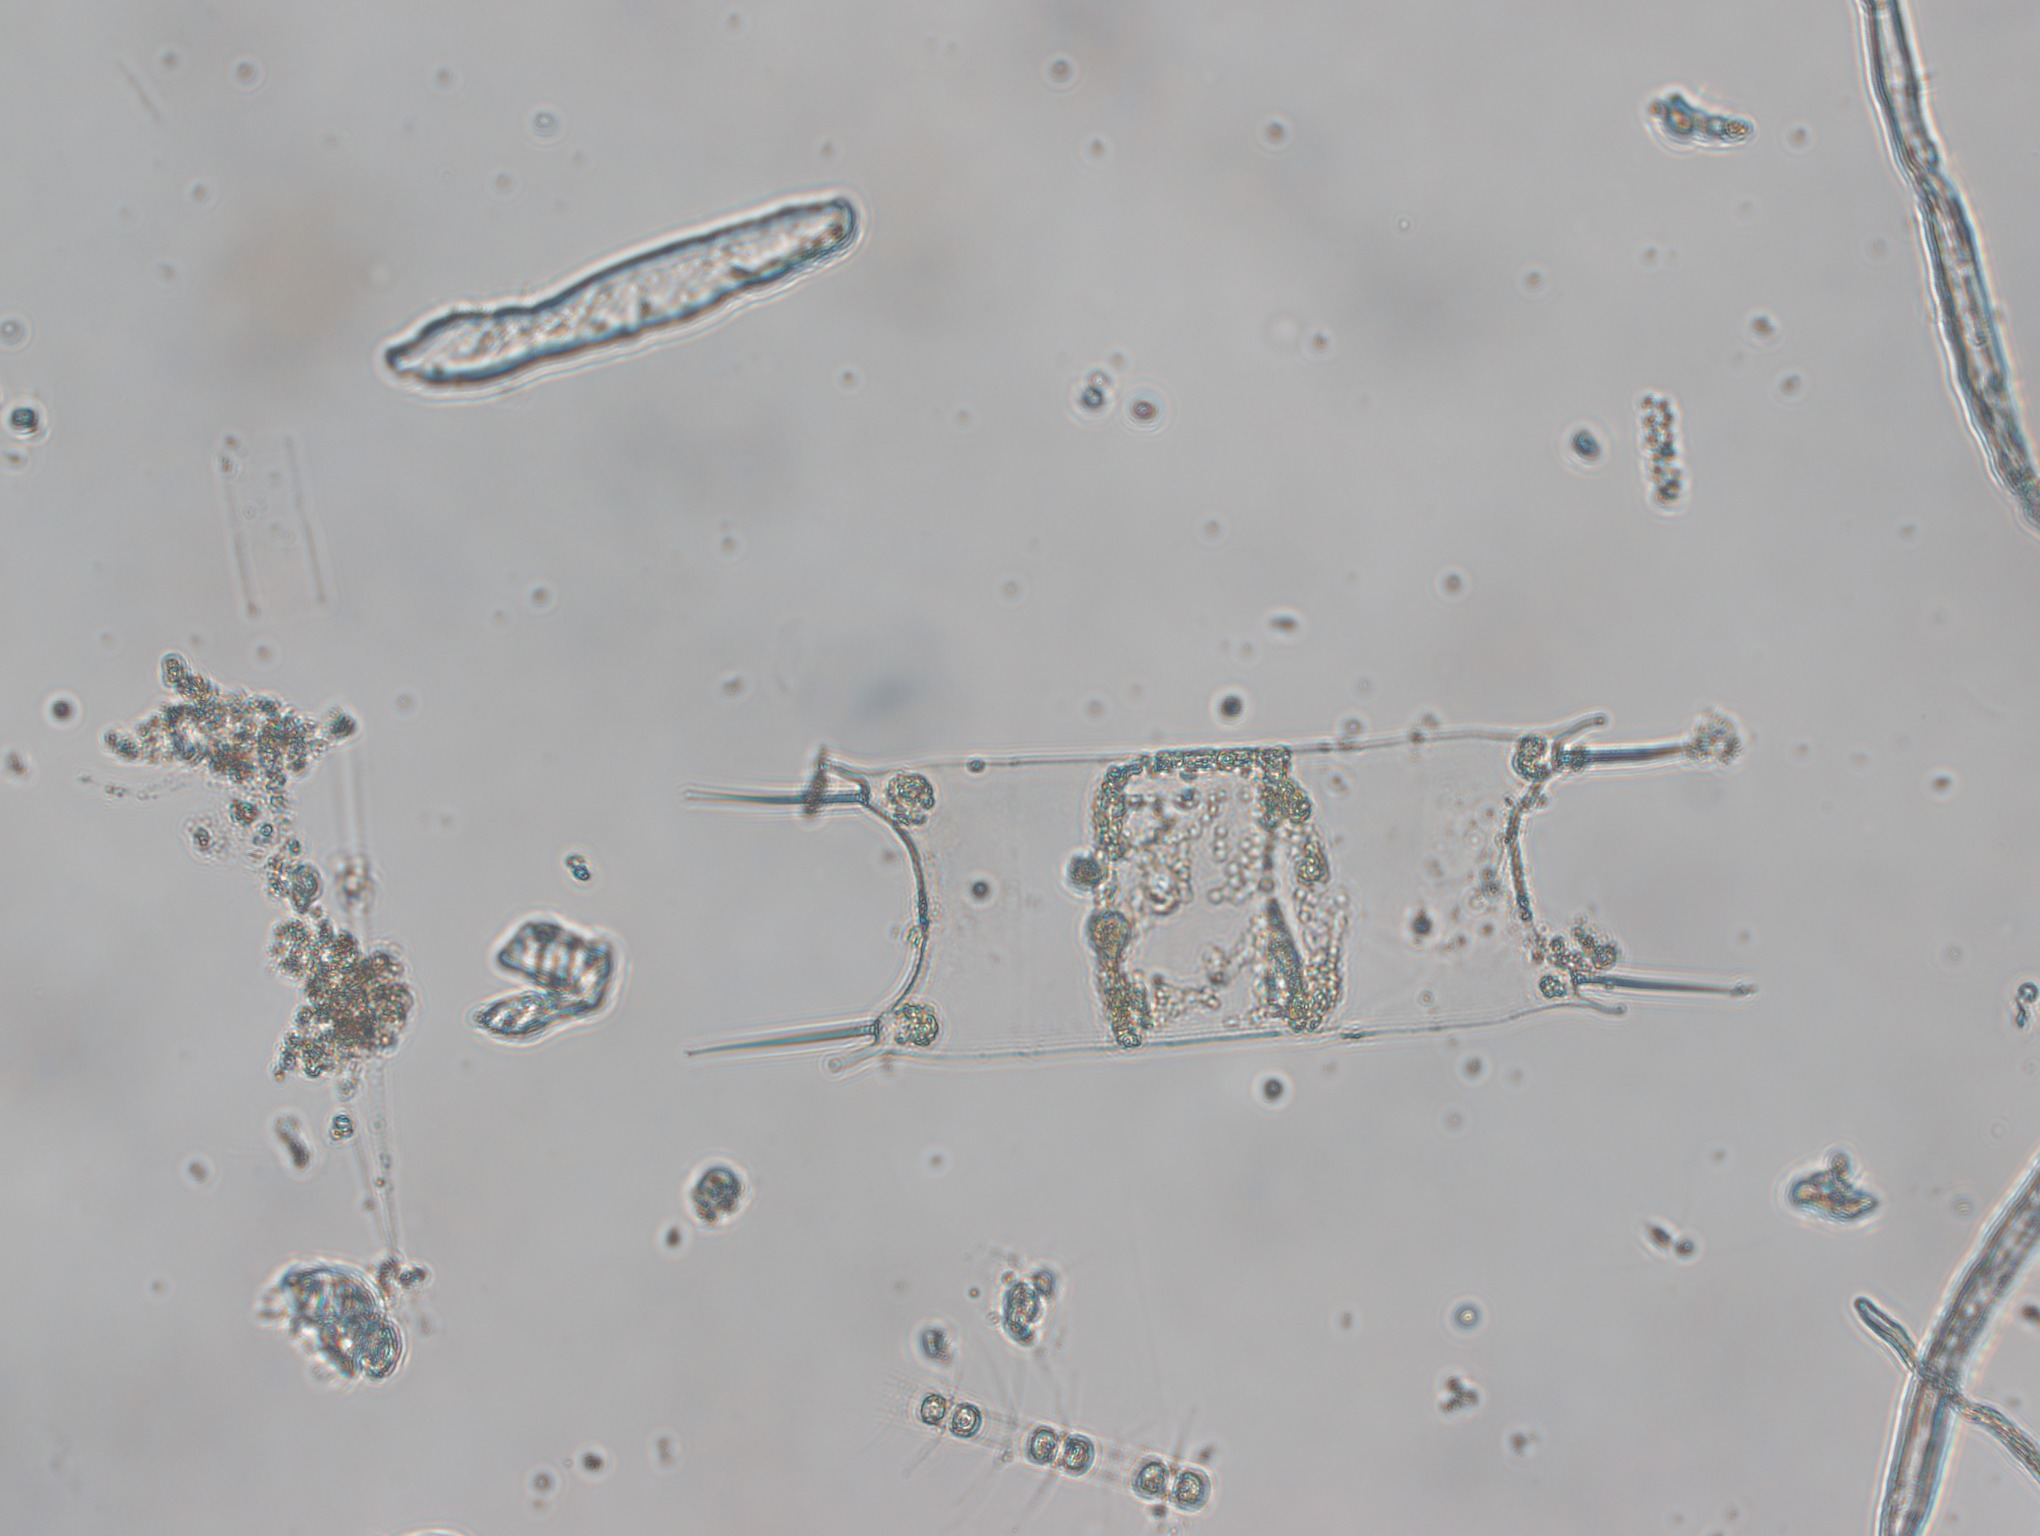biddulphia: (685, 712, 1766, 1068)
chaetoceros: (882, 1326, 1218, 1536)
